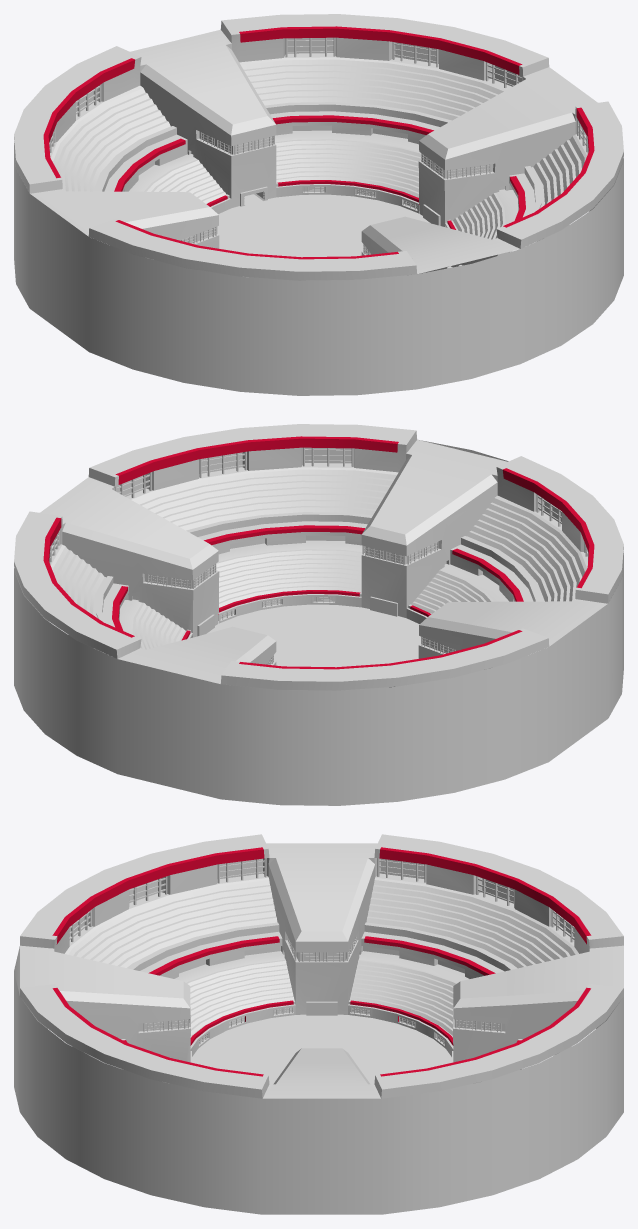
Rendered from Arena.fbx.
The picture shows the model from 3 angles, top to bottom: view 1: azimuth 30°, elevation 25°; view 2: azimuth 150°, elevation 25°; view 3: azimuth 270°, elevation 25°; orthographic projection.
Visible parts, largest first — view 1: Tribune, Outside walls, Box.002, Box, Circle, Box.003, Box.001, MoreLights.001, Fence.012; view 2: Tribune, Outside walls, Box.001, Box, Circle, Box.003, Box.002, MoreLights.001, Fence.017; view 3: Tribune, Outside walls, Box.003, Circle, Box.001, Box.002, Box, MoreLights.001, Fence.020.
Part boxes in pixels (box(x1,y1,x2,y2)): Tribune: box(14, 14, 623, 280); Outside walls: box(14, 139, 623, 395); Box.002: box(130, 29, 276, 208); Box: box(418, 67, 597, 226); Circle: box(217, 194, 430, 257); Box.003: box(30, 189, 219, 248); Box.001: box(361, 216, 519, 274); MoreLights.001: box(206, 180, 455, 229); Fence.012: box(285, 37, 335, 57); Tribune: box(14, 424, 623, 690); Outside walls: box(14, 440, 623, 805); Box.001: box(361, 439, 507, 618); Box: box(40, 477, 219, 637); Circle: box(206, 604, 421, 667); Box.003: box(418, 599, 607, 658); Box.002: box(118, 626, 276, 683); MoreLights.001: box(181, 590, 431, 640); Fence.017: box(303, 447, 353, 466); Tribune: box(20, 834, 623, 1098); Outside walls: box(14, 946, 623, 1214); Box.003: box(266, 843, 377, 1015); Circle: box(192, 1014, 451, 1084); Box.001: box(20, 945, 191, 1062); Box.002: box(452, 945, 623, 1062); Box: box(263, 1048, 380, 1098); MoreLights.001: box(190, 1000, 453, 1056); Fence.020: box(217, 858, 266, 883).
Size of the model in its own units: 226 by 51.52 by 228.
